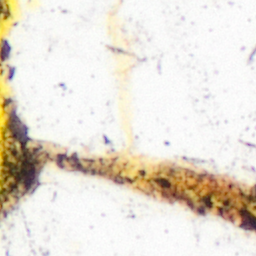cement_matrix: (0, 119, 38, 198), (238, 189, 255, 229), (197, 195, 214, 209), (158, 178, 173, 192), (222, 200, 231, 209), (0, 4, 2, 14)
cracks: (0, 0, 255, 233), (196, 194, 215, 210), (157, 177, 174, 193), (221, 199, 232, 210), (252, 208, 255, 210)
gravel_crushed_stones: (4, 0, 255, 185), (0, 163, 255, 255)
